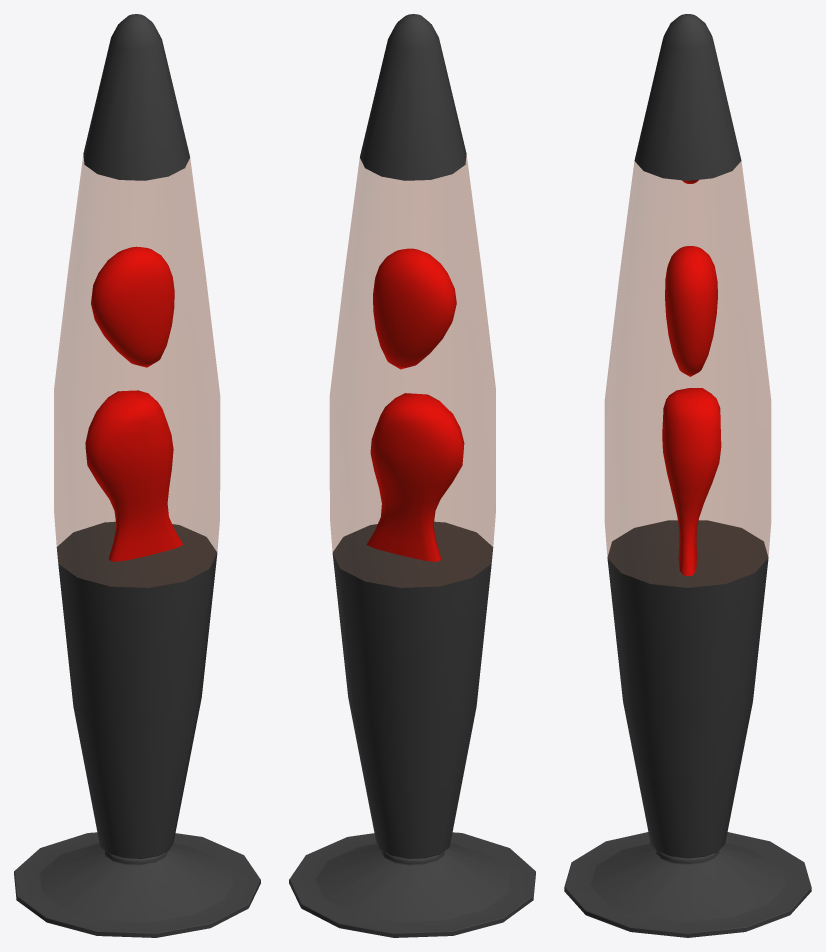
Rendered from Lava lamp.FBX.
3 renders of one model, left to right at view 1: azimuth 30°, elevation 25°; view 2: azimuth 150°, elevation 25°; view 3: azimuth 270°, elevation 25°, orthographic.
Visible parts, largest first — view 1: lava lamp, substance; view 2: lava lamp, substance; view 3: lava lamp, substance.
Boxes of the visible parts, <box> form: lava lamp: <box>14,14,260,937</box>; substance: <box>85,246,183,561</box>; lava lamp: <box>289,14,535,937</box>; substance: <box>366,248,464,561</box>; lava lamp: <box>564,14,811,937</box>; substance: <box>662,180,721,575</box>.
Bounding box in the file's own units: 13.47 × 52.64 × 13.57.
